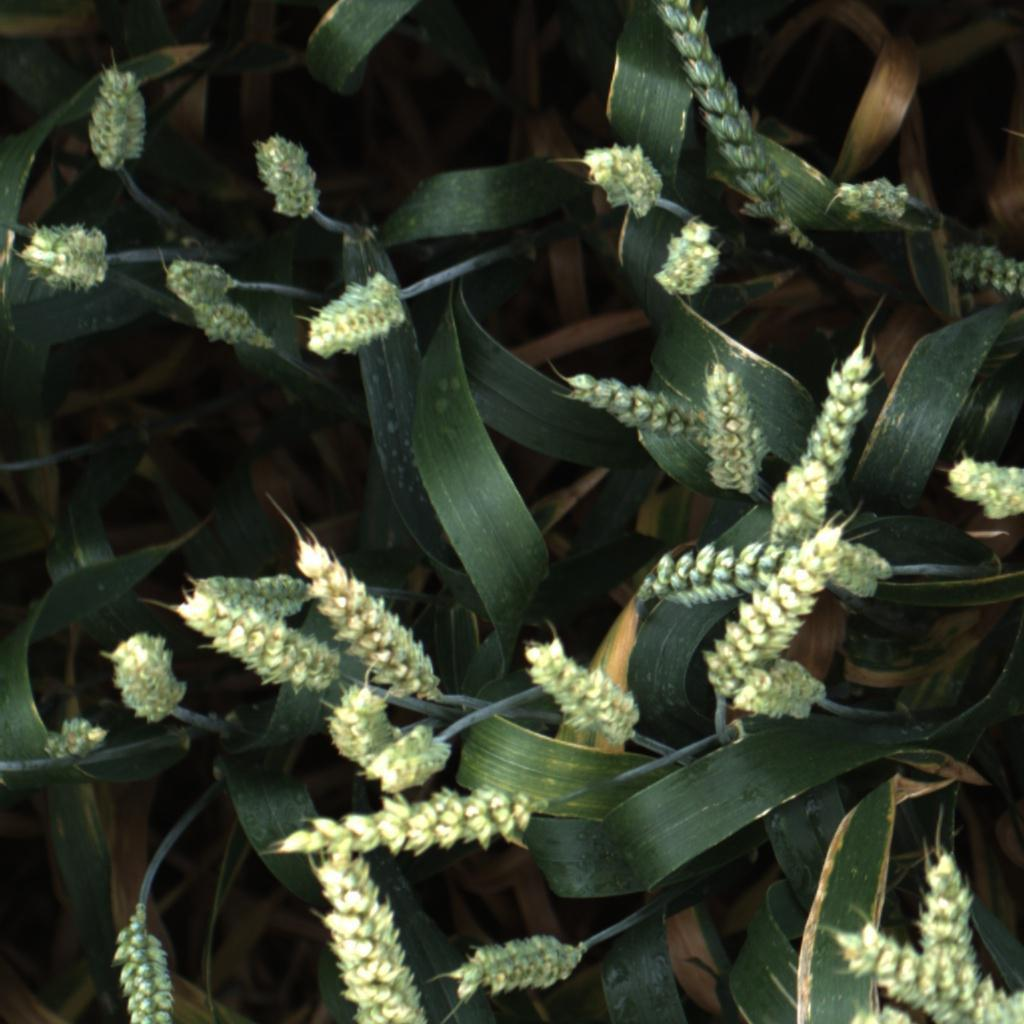0-0: (643, 0, 812, 221), (298, 525, 451, 692), (824, 898, 1019, 1024), (273, 780, 540, 868), (707, 528, 840, 702), (313, 851, 417, 1024), (564, 364, 720, 464), (173, 607, 335, 697), (797, 335, 886, 484), (521, 639, 639, 745), (918, 850, 988, 1024), (691, 356, 772, 504), (450, 929, 578, 1005), (636, 542, 785, 606), (303, 269, 404, 361), (112, 906, 189, 1024), (103, 625, 191, 725), (572, 134, 673, 221), (186, 561, 314, 622), (84, 60, 151, 175), (250, 131, 327, 225), (733, 651, 827, 728), (22, 217, 111, 296), (942, 449, 1024, 529), (368, 721, 456, 794), (771, 452, 843, 539), (653, 219, 730, 299), (325, 679, 392, 770), (823, 533, 905, 600), (825, 173, 917, 229), (946, 240, 1024, 302), (188, 295, 271, 350), (39, 709, 113, 768), (155, 253, 237, 304)
